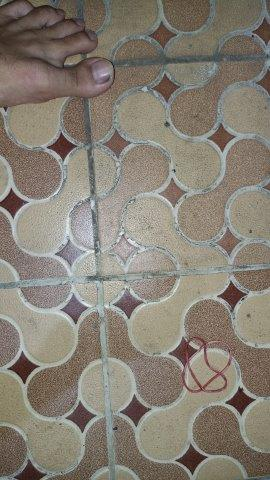karet: (182, 338, 232, 392)
